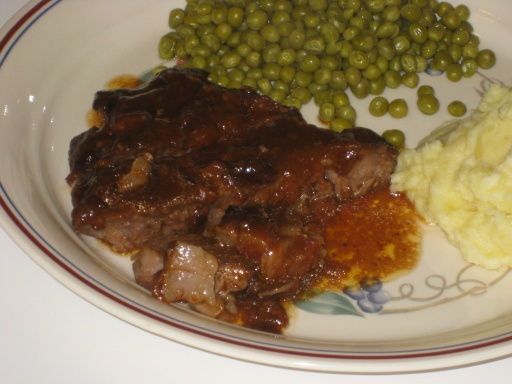background: (52, 0, 409, 201), (19, 20, 350, 69)
